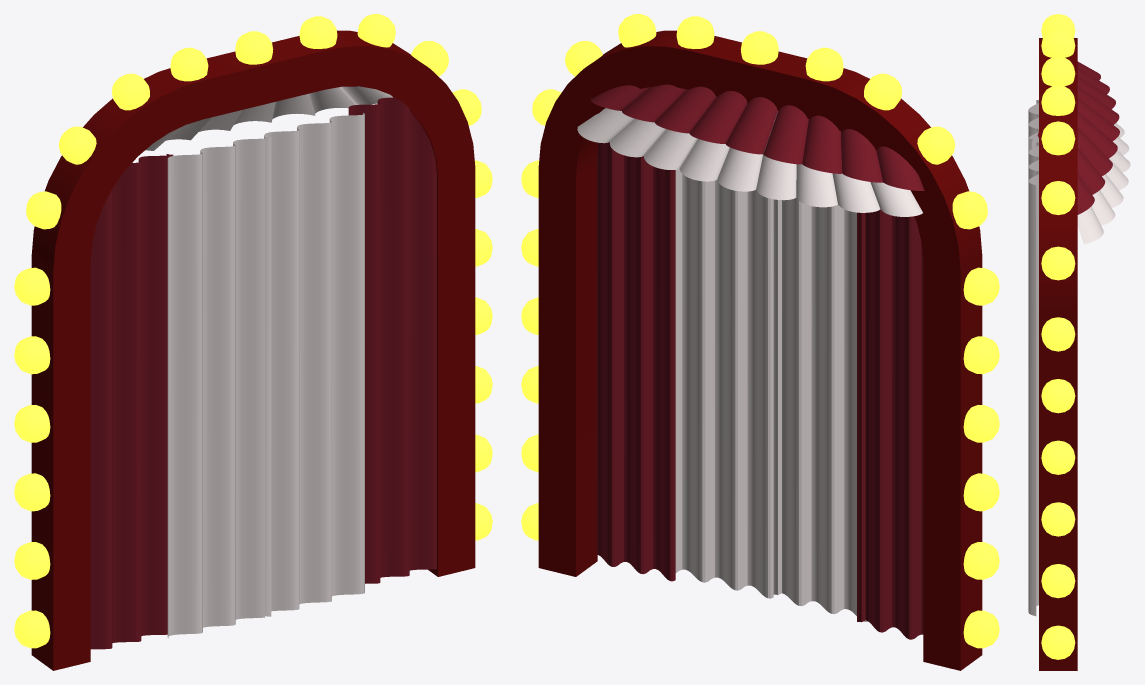
Rendered from Puerta Teatro 1.fbx.
3 renders of one model, left to right at view 1: azimuth 30°, elevation 25°; view 2: azimuth 150°, elevation 25°; view 3: azimuth 270°, elevation 25°, orthographic. The views are drawn at different scales.
Visible parts, largest first — view 1: Cube.002, BezierCurve.004, BezierCurve.005, BezierCurve.002, BezierCurve.003, Cube.008, BezierCurve.013; view 2: Cube.002, BezierCurve.005, BezierCurve.004, BezierCurve.003, BezierCurve.002, Cube.008, BezierCurve.013, BezierCurve.034, BezierCurve.026, BezierCurve.033, BezierCurve.027, BezierCurve.032 (+4 smaller); view 3: Cube.002, Cube.008, BezierCurve.005, BezierCurve.013, BezierCurve.028, BezierCurve.027, BezierCurve.029, BezierCurve.026, BezierCurve.034, BezierCurve.004, BezierCurve.030, BezierCurve.033 (+2 smaller).
Part boxes in pixels (x1,y1,x2,y2): Cube.002: (31, 30, 475, 670); BezierCurve.004: (167, 136, 271, 638); BezierCurve.005: (264, 112, 364, 611); BezierCurve.002: (90, 154, 173, 649); BezierCurve.003: (348, 97, 436, 583); Cube.008: (14, 14, 492, 648); BezierCurve.013: (145, 86, 392, 150); Cube.002: (538, 30, 982, 670); BezierCurve.005: (675, 147, 773, 598); BezierCurve.004: (773, 164, 868, 621); BezierCurve.003: (596, 142, 675, 581); BezierCurve.002: (857, 209, 923, 639); Cube.008: (521, 14, 999, 648); BezierCurve.013: (577, 108, 922, 216); BezierCurve.034: (763, 105, 808, 164); BezierCurve.026: (725, 97, 777, 154); BezierCurve.033: (802, 115, 842, 173); BezierCurve.027: (689, 91, 747, 143); BezierCurve.032: (840, 129, 883, 182); Cube.002: (1039, 38, 1077, 670); Cube.008: (1041, 14, 1075, 659); BezierCurve.005: (1028, 142, 1038, 616); BezierCurve.013: (1077, 123, 1130, 243); BezierCurve.028: (1077, 128, 1112, 176); BezierCurve.027: (1077, 112, 1117, 158); BezierCurve.029: (1077, 148, 1105, 194); BezierCurve.026: (1077, 98, 1119, 141); BezierCurve.034: (1077, 87, 1119, 124); BezierCurve.004: (1028, 100, 1038, 151); BezierCurve.030: (1037, 132, 1094, 214); BezierCurve.033: (1077, 77, 1115, 109).
Bounding box in the file's own units: 443 × 517 × 92.09.
